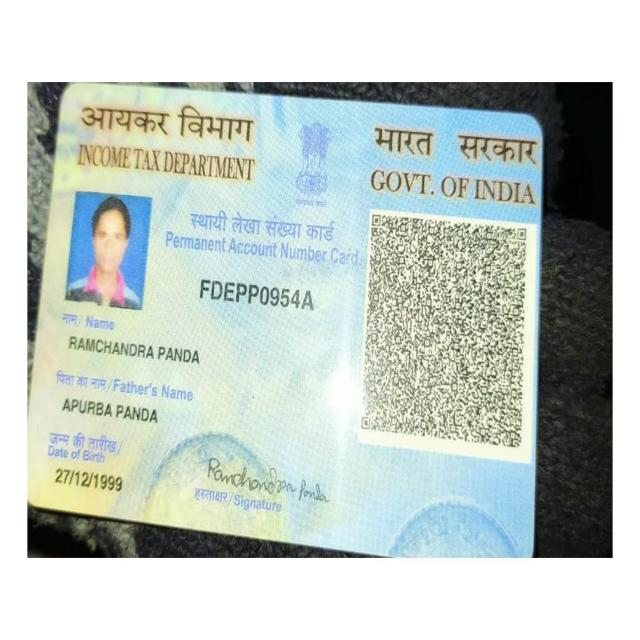pan_card: (27, 84, 543, 559)
